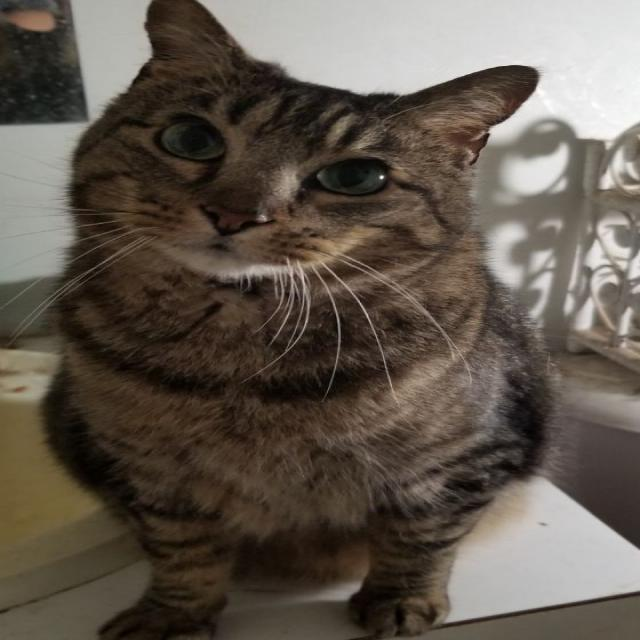american_shorthair_cat: (41, 3, 548, 307)
